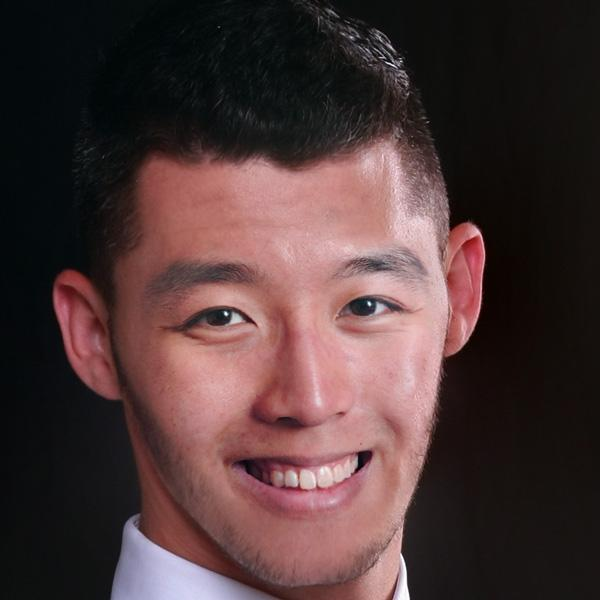Eyes: (167, 292, 267, 351), (324, 282, 418, 339)
